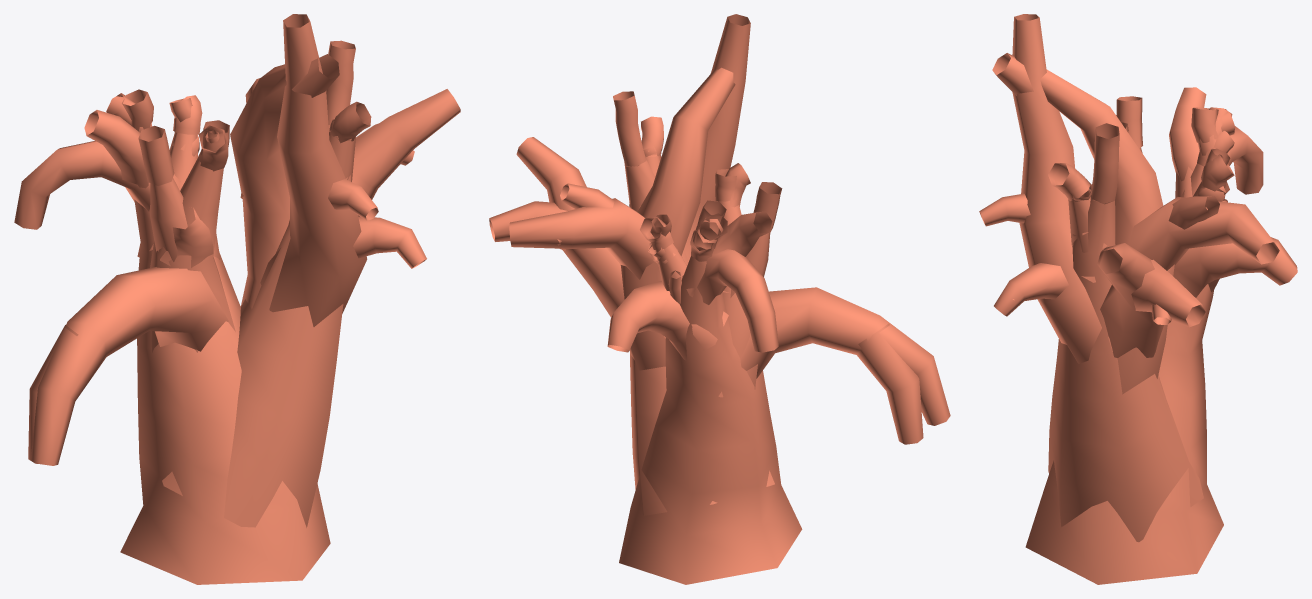
Rendered from coral1.fbx.
3 renders of one model, left to right at view 1: azimuth 30°, elevation 25°; view 2: azimuth 150°, elevation 25°; view 3: azimuth 270°, elevation 25°, orthographic. The views are drawn at different scales.
Visible parts, largest first — view 1: CoralP.02; view 2: CoralP.02; view 3: CoralP.02.
Part boxes in pixels (x1,y1,x2,y2): CoralP.02: (14,14,460,584); CoralP.02: (489,14,950,584); CoralP.02: (979,14,1297,584).
Bounding box in the file's own units: 165 × 196 × 105.
